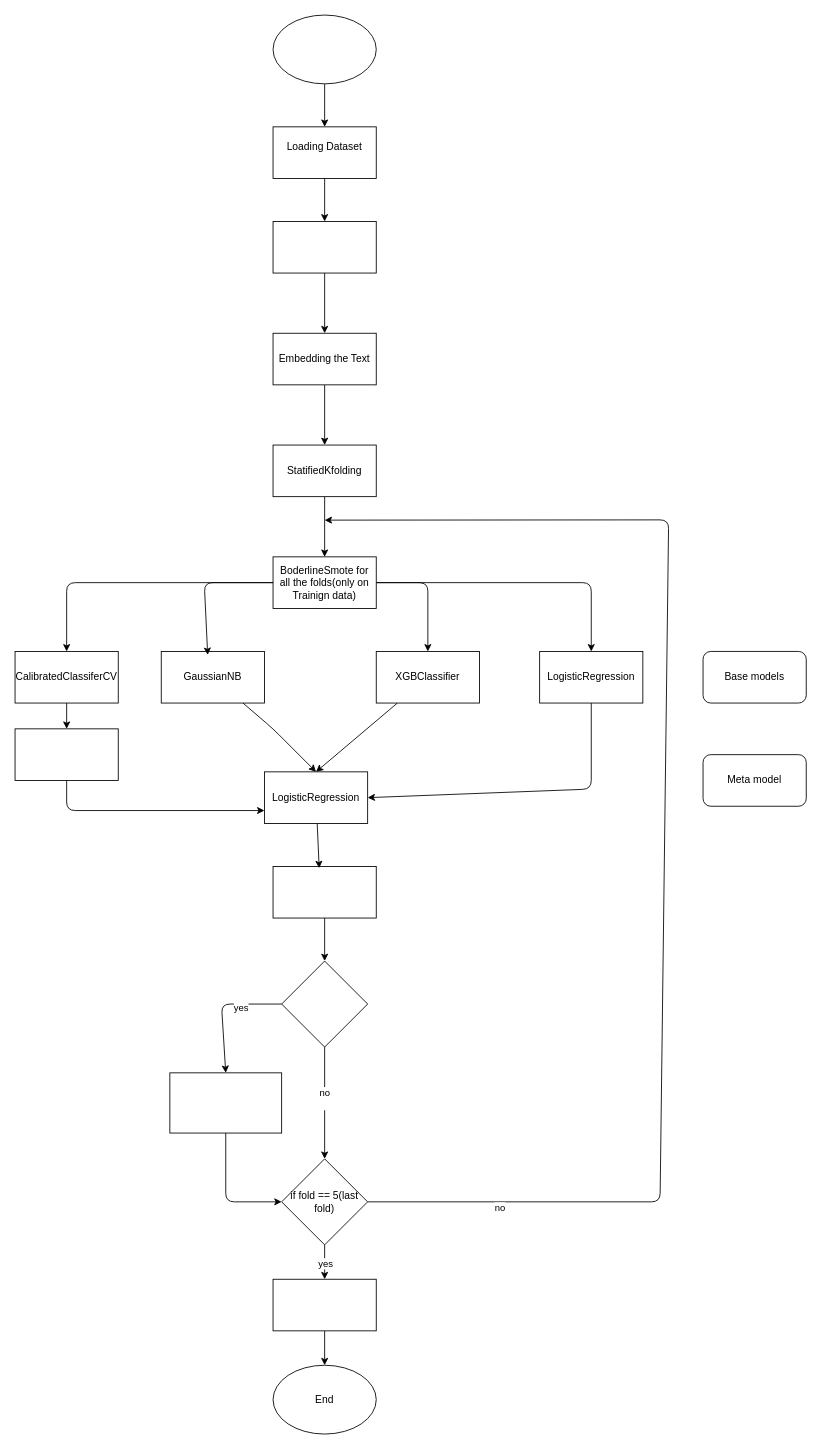
The diagram is 821 pixels wide and 1449 high, and some of its shapes have lost their labels. The centre of each missing label's shape, as x and y in pixels:
embedder_model: pixel 324 247
Evaluate AUC,Confusion Matrix,F1score: pixel 324 892
if prev_auc <Present_auc: pixel 324 1003
Save the best model in a picle file and training and testing data in a csv file: pixel 324 1304
Start: pixel 324 49
Store the model, training data and testing data: pixel 225 1102
SVC: pixel 66 754
